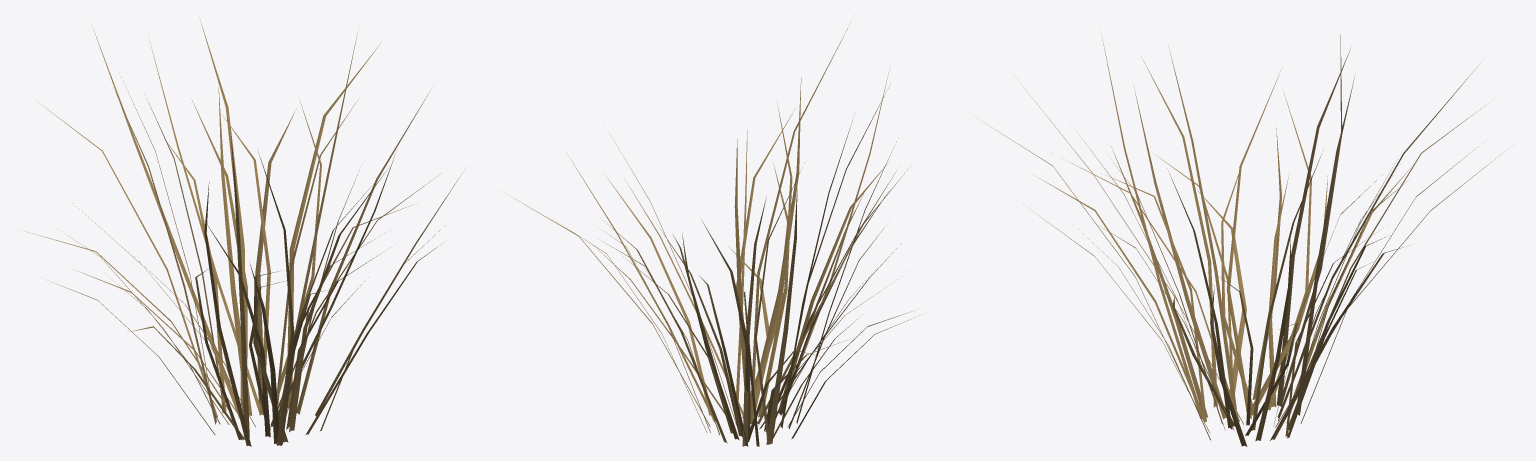
Rendered from SM_CN_Grass_B_LOD1.fbx.
3 renders of one model, left to right at view 1: azimuth 30°, elevation 25°; view 2: azimuth 150°, elevation 25°; view 3: azimuth 270°, elevation 25°, orthographic. The views are drawn at different scales.
Visible parts, largest first — view 1: SM_CN_Grass_B_LOD1; view 2: SM_CN_Grass_B_LOD1; view 3: SM_CN_Grass_B_LOD1.
Boxes of the visible parts, box(x1,y1,x2,y2) form: SM_CN_Grass_B_LOD1: box(25, 19, 462, 446); SM_CN_Grass_B_LOD1: box(509, 23, 919, 446); SM_CN_Grass_B_LOD1: box(982, 34, 1507, 446).
Bounding box in the file's own units: 0.7639 × 0.88 × 0.64.
